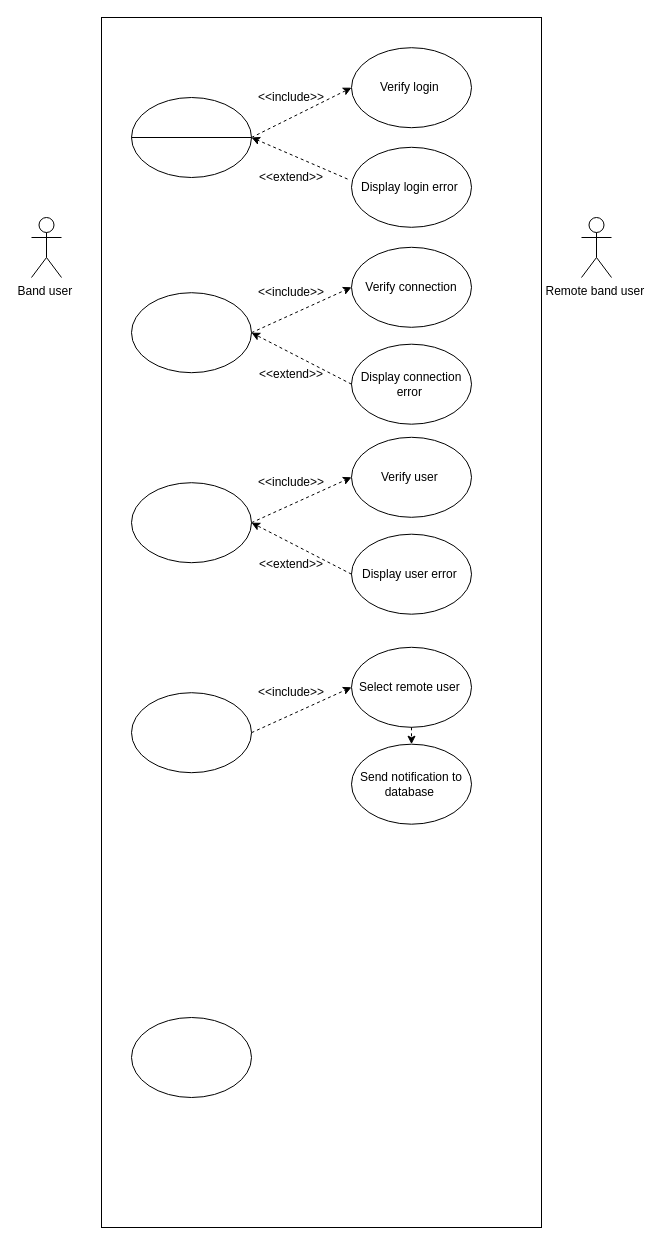
Image size: 664x1245. Some labels were removed from this diagram. The shapes that lost their labels are listed below. From the top down, each one's centre as x and y in pixels, then its label:
At [191,137]: "Login Create profile".
At [191,332]: "Pair with band".
At [191,522]: "Pair with remote user".
At [191,732]: "Send remote notification".
At [191,1057]: "Set local notification".
